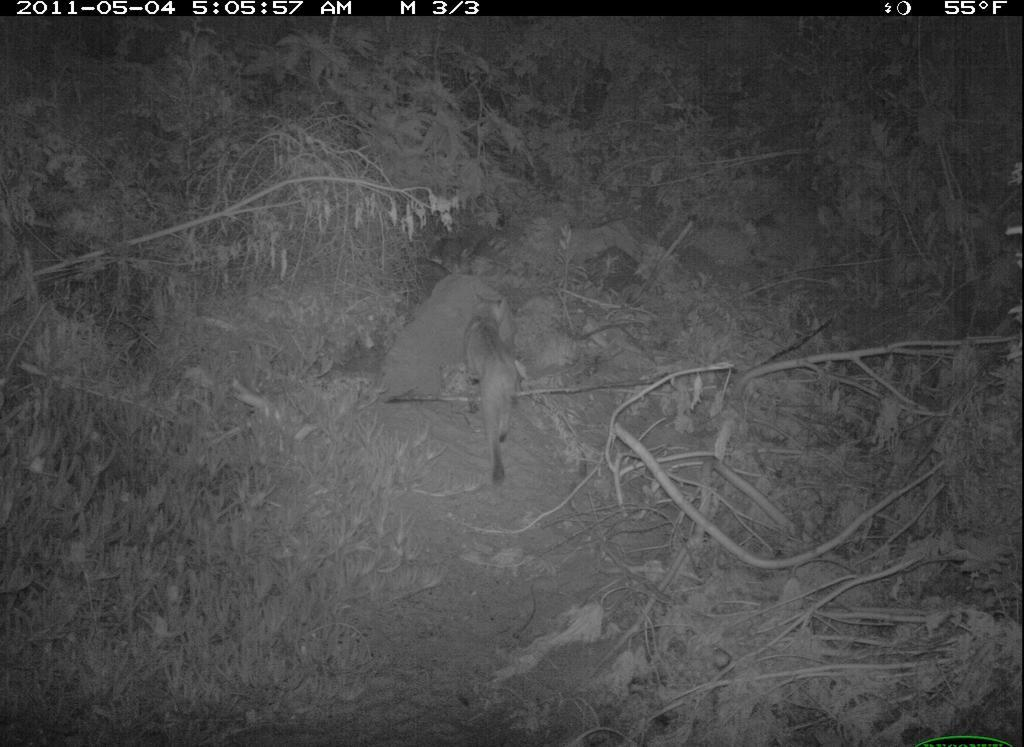bobcat: (464, 290, 534, 497)
